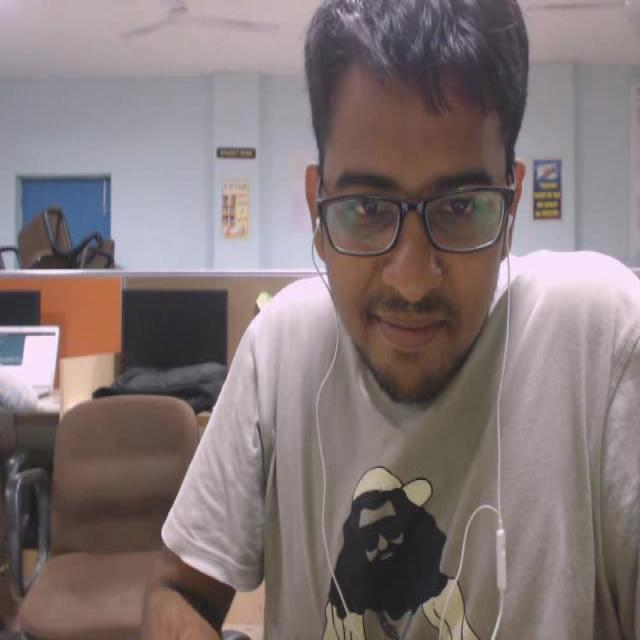Engaged: (244, 0, 570, 430)
